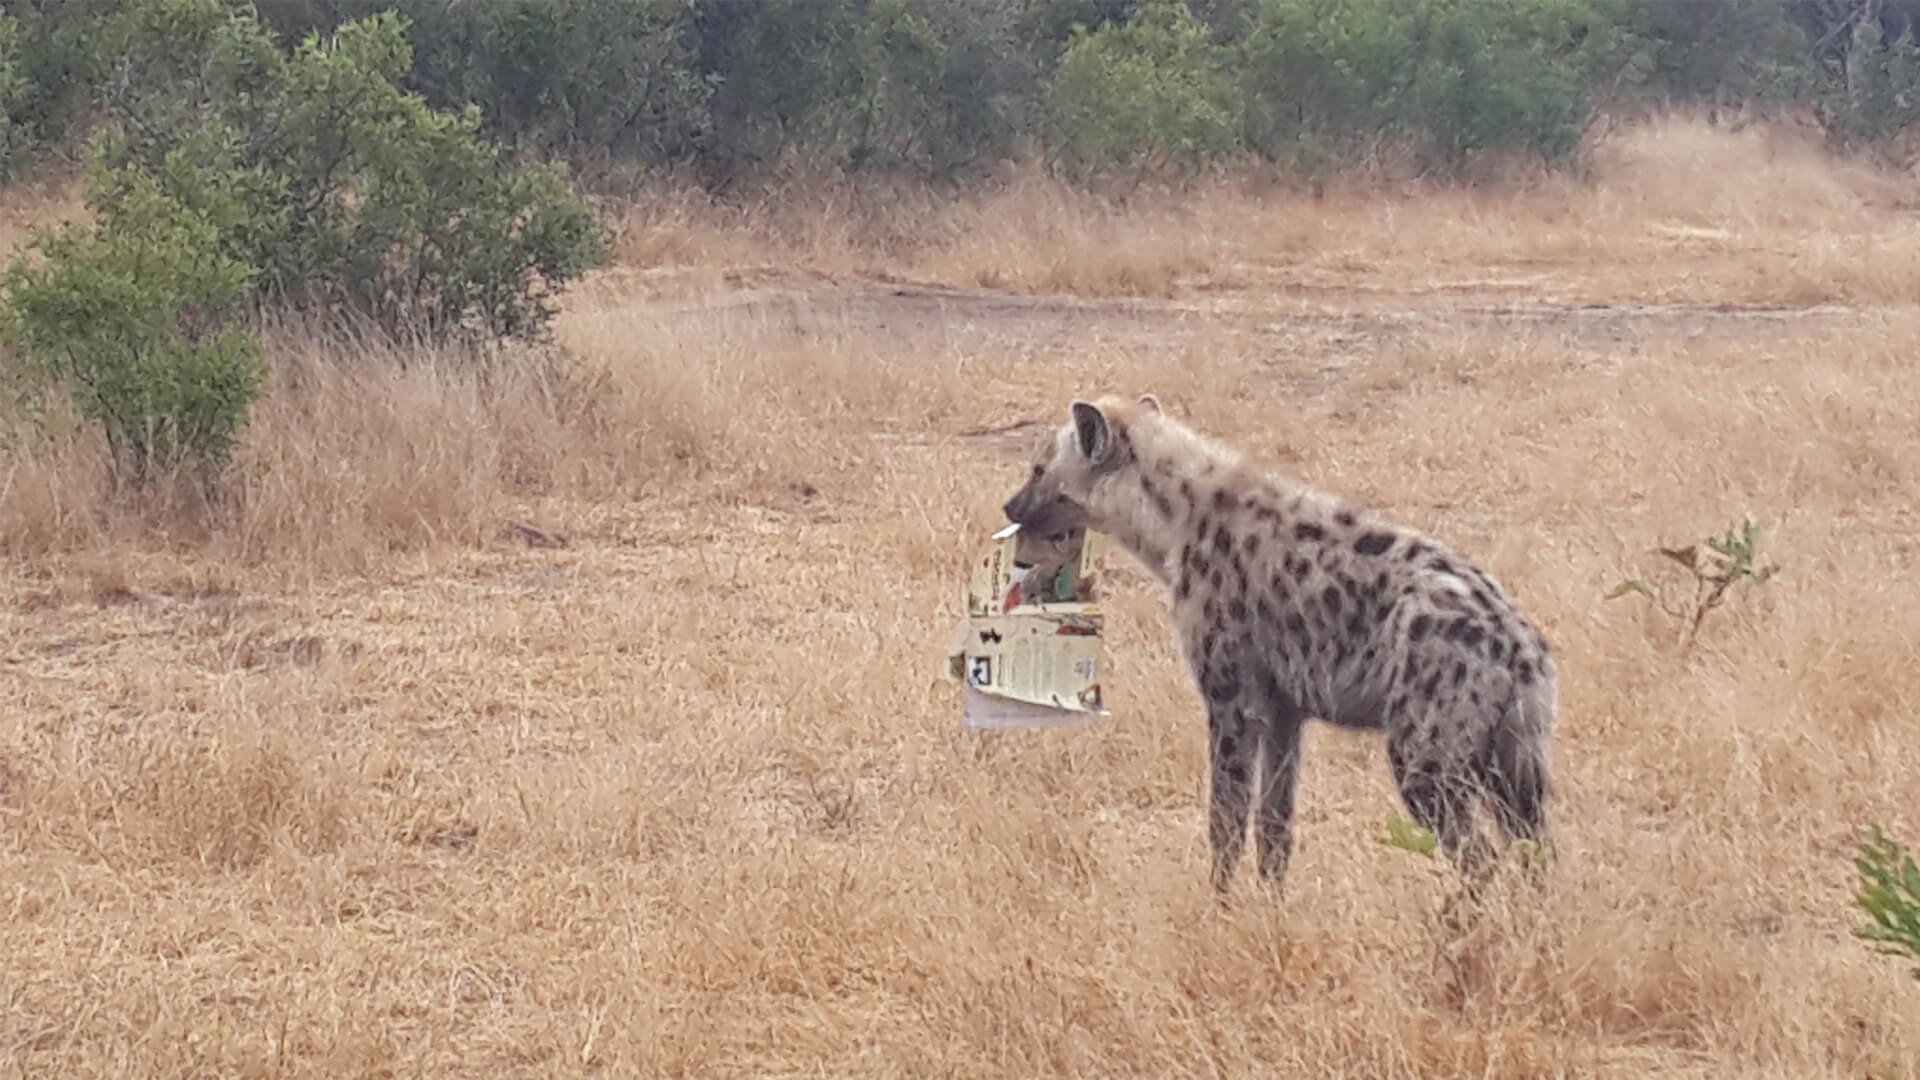hyna: (1001, 382, 1585, 1000)
